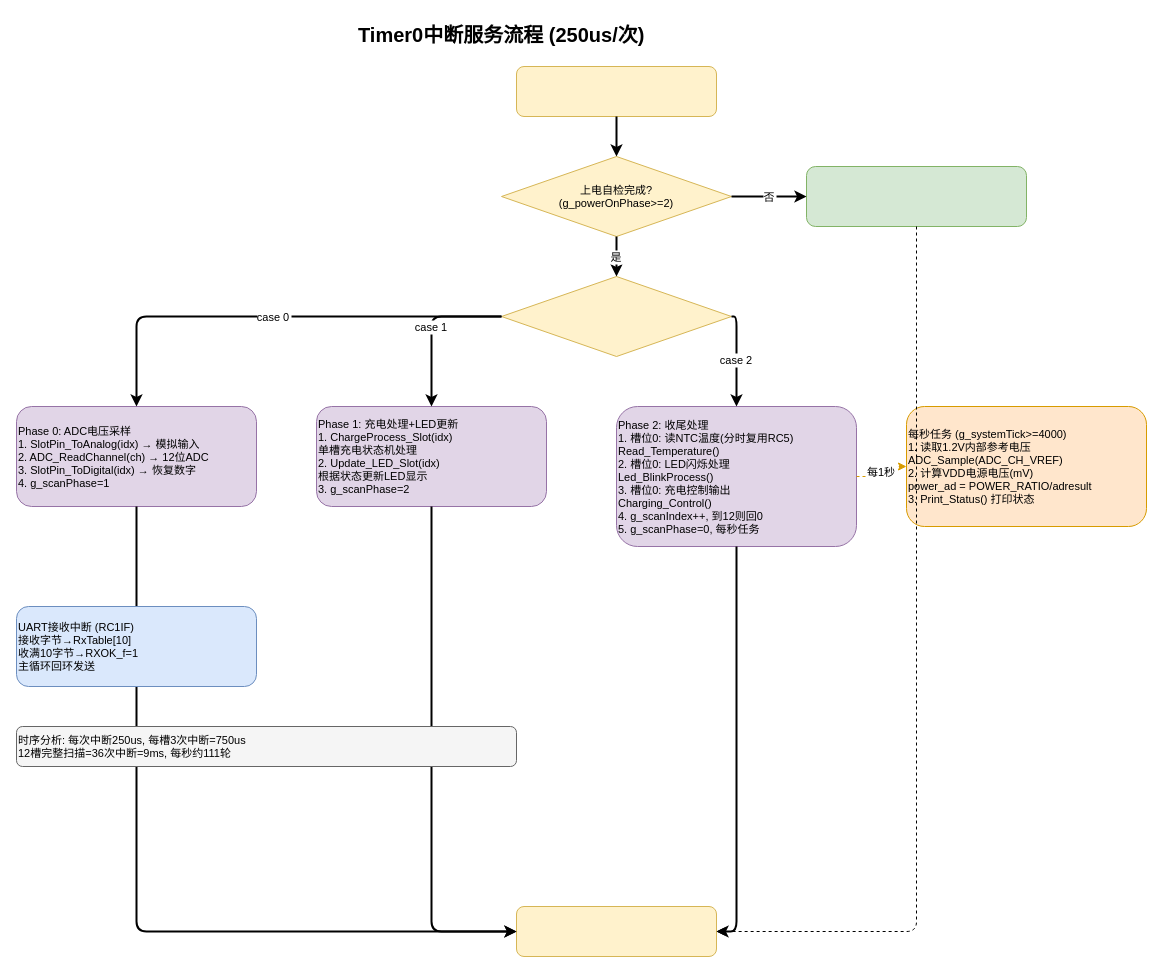
This 1163x973 diagram has some shape labels left out. The shapes that lost their labels are listed below. From the top down, each one's centre as x and y in pixels, then its label:
At pixel 616 91: "Timer0中断入口 TMR0+=6, T0IF=0".
At pixel 916 196: "PowerOnLedSequence() LED自检: 全亮1s→保持1s→关闭".
At pixel 616 316: "扫描阶段? (g_scanPhase)".
At pixel 616 931: "中断返回".
